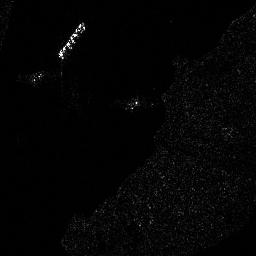ship: (56, 20, 86, 58)
